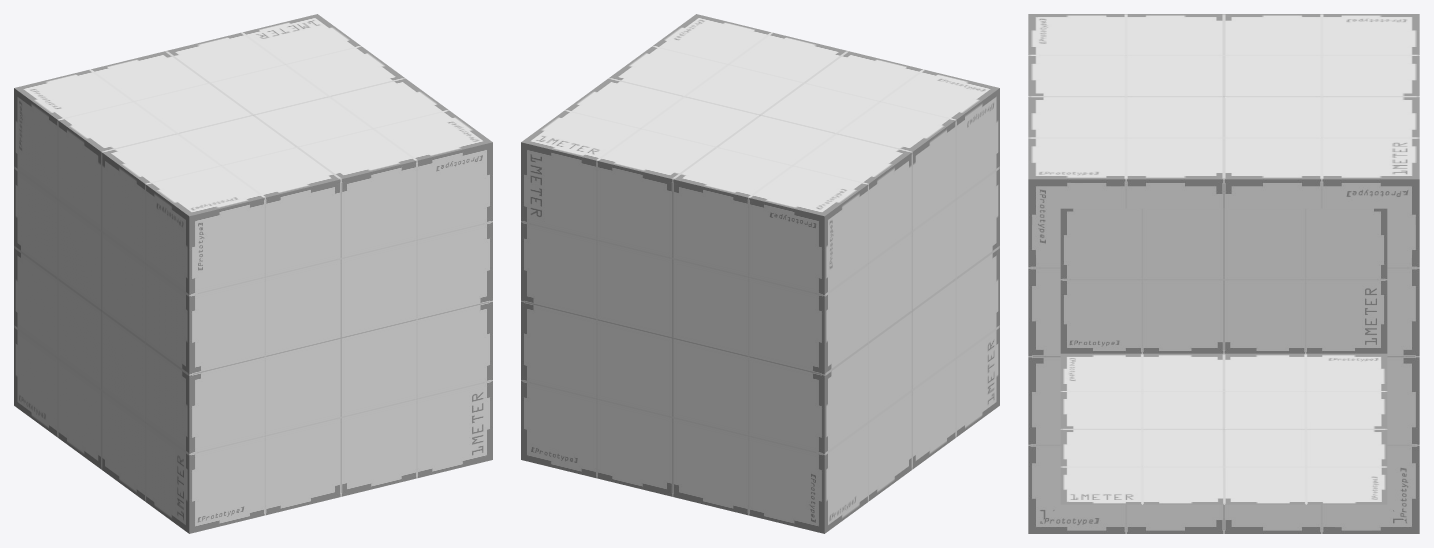
File: indoorTest.glb
3 renders of one model, left to right at view 1: azimuth 30°, elevation 25°; view 2: azimuth 150°, elevation 25°; view 3: azimuth 270°, elevation 25°, orthographic. The views are drawn at different scales.
Visible parts, largest first — view 1: BoxWall1.003, BoxWall1.002, BoxWall1.001; view 2: BoxWall1.004, BoxWall1.002, BoxWall1.001; view 3: BoxWall1.001, BoxWall1.005, BoxWall1.002, BoxWall1.003, BoxWall1.004.
Part boxes in pixels (<box>): BoxWall1.003: <box>189,142,492,533</box>; BoxWall1.002: <box>14,88,189,533</box>; BoxWall1.001: <box>14,14,492,216</box>; BoxWall1.004: <box>521,142,824,533</box>; BoxWall1.002: <box>824,88,999,533</box>; BoxWall1.001: <box>521,14,999,216</box>; BoxWall1.001: <box>1028,14,1419,208</box>; BoxWall1.005: <box>1029,353,1418,533</box>; BoxWall1.002: <box>1060,208,1387,353</box>; BoxWall1.003: <box>1028,179,1060,533</box>; BoxWall1.004: <box>1387,179,1419,533</box>.
Bounding box in the file's own units: 4.4 × 4.4 × 4.4.
Materials: 1 (1 with a texture image).
